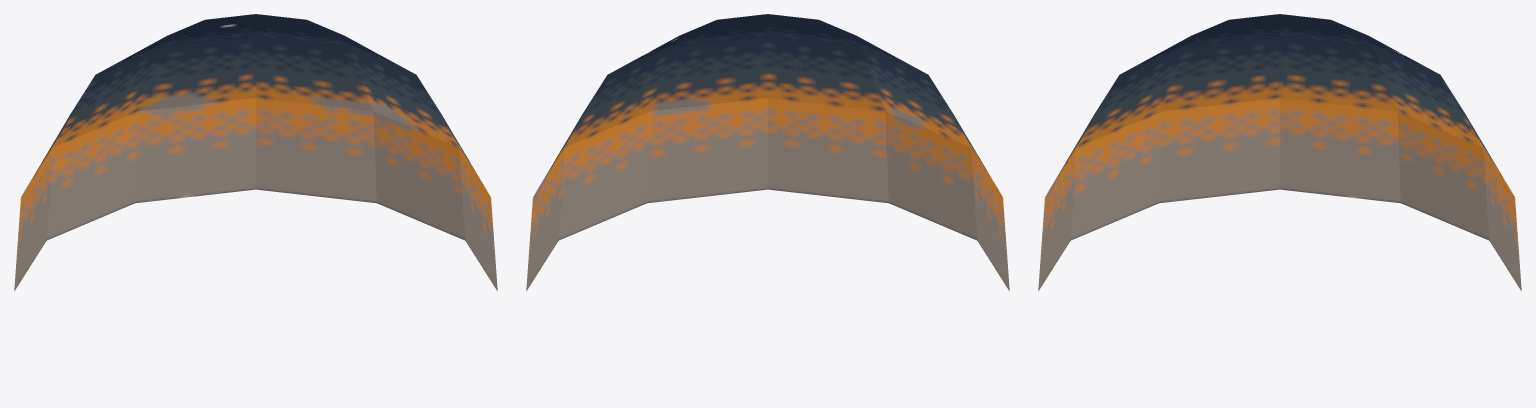
Rendered from sky.backdrop.glb.
3 renders of one model, left to right at view 1: azimuth 30°, elevation 25°; view 2: azimuth 150°, elevation 25°; view 3: azimuth 270°, elevation 25°, orthographic.
Visible parts, largest first — view 1: kit_shell_sky; view 2: kit_shell_sky; view 3: kit_shell_sky.
Boxes of the visible parts, left/top/right/bottom form: kit_shell_sky: left=14, top=14, right=497, bottom=290; kit_shell_sky: left=526, top=14, right=1009, bottom=290; kit_shell_sky: left=1038, top=14, right=1521, bottom=290.
Bounding box in the file's own units: 791 × 460 × 791.
1 material, 1 textured.
